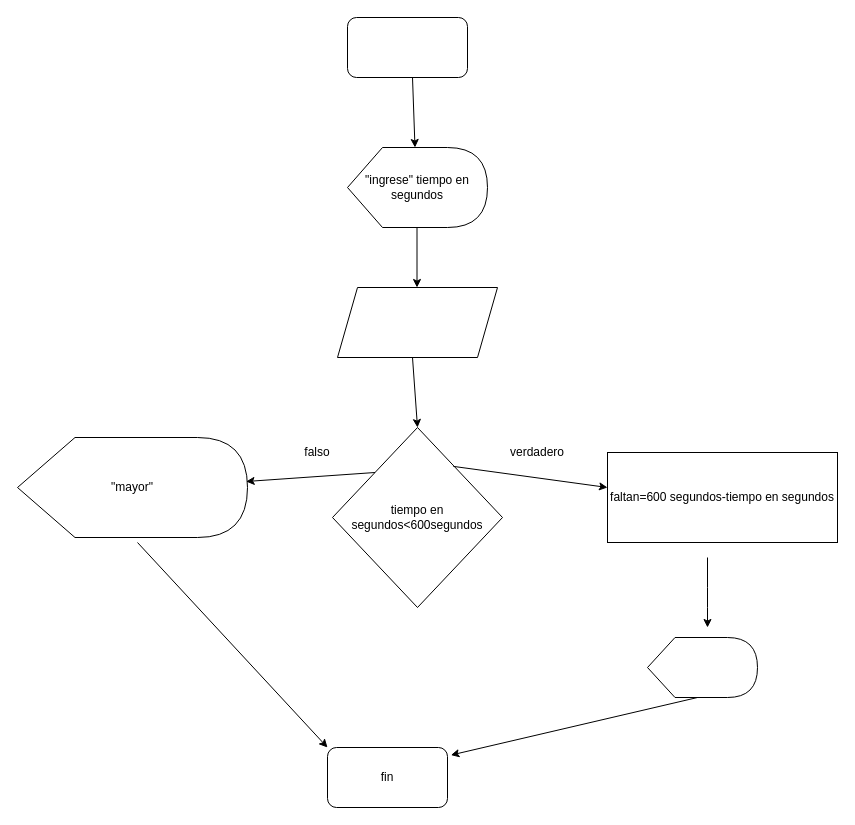
Image size: 855x825. Some labels were removed from this diagram. The shapes that lost their labels are listed below. From the top down, each one's centre as x and y in pixels, then its label:
At (407,47): "inicio".
At (417,322): "tiempo en segundos".
At (702,667): "faltan".
